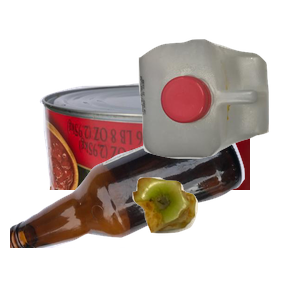glass: (10, 120, 247, 300)
metal: (37, 81, 277, 261)
plastic: (136, 37, 300, 188)
trash: (130, 175, 300, 300)
